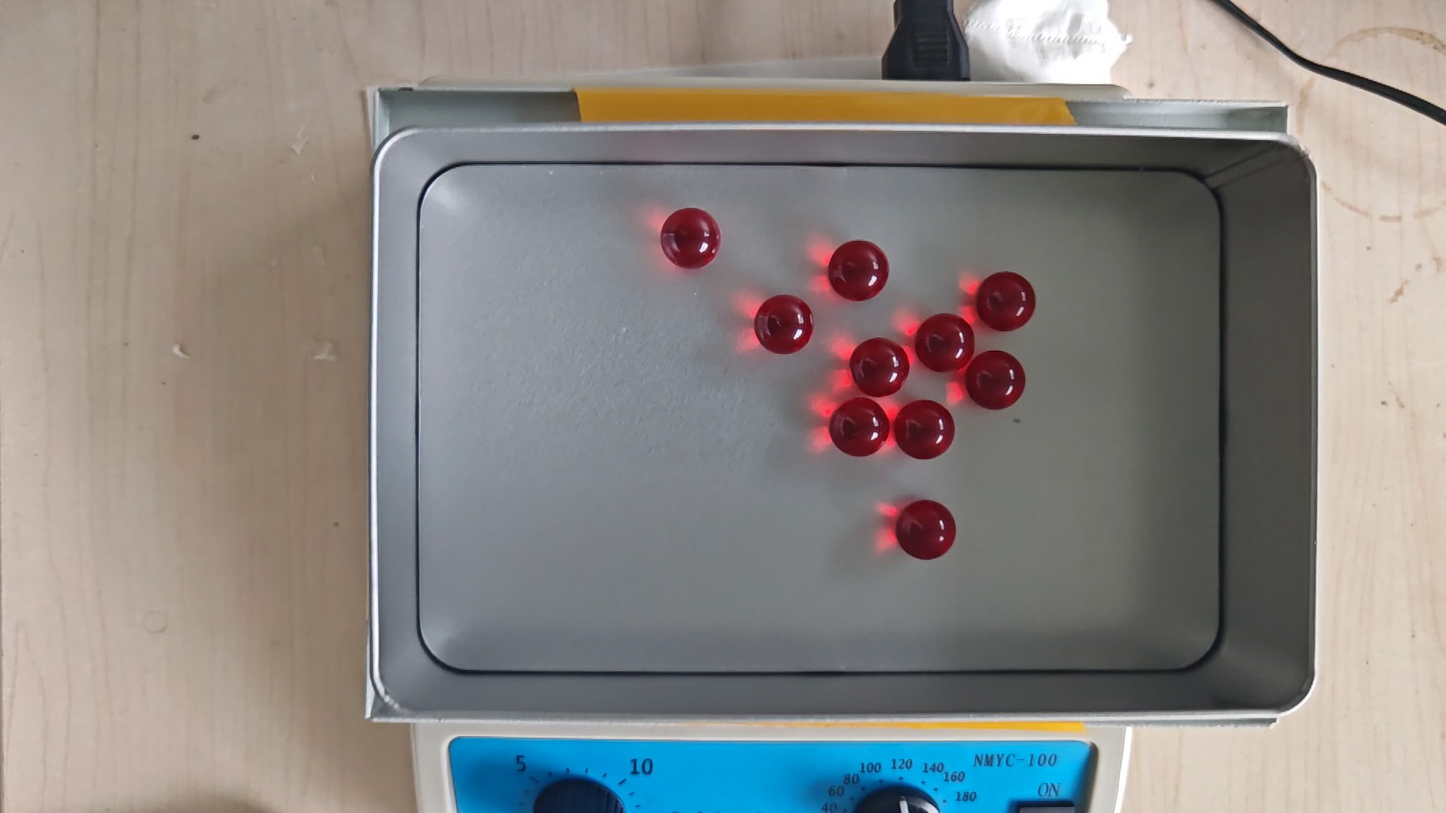ball: (661, 206, 722, 270), (828, 240, 889, 302), (896, 498, 956, 561), (895, 399, 956, 460), (966, 350, 1026, 411), (850, 336, 909, 397), (830, 396, 889, 457), (977, 271, 1036, 331), (755, 295, 814, 355), (915, 313, 973, 374)
container: (417, 164, 1222, 673)
